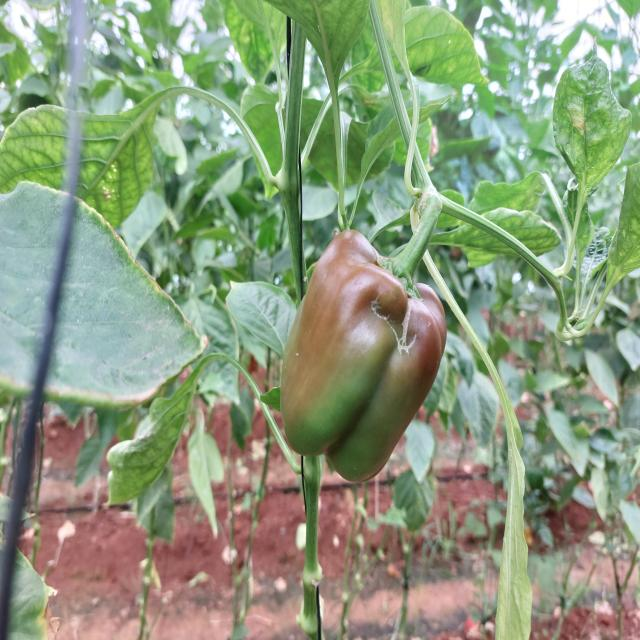BrownishRed--Can-be-Harvested: (269, 225, 451, 492)
